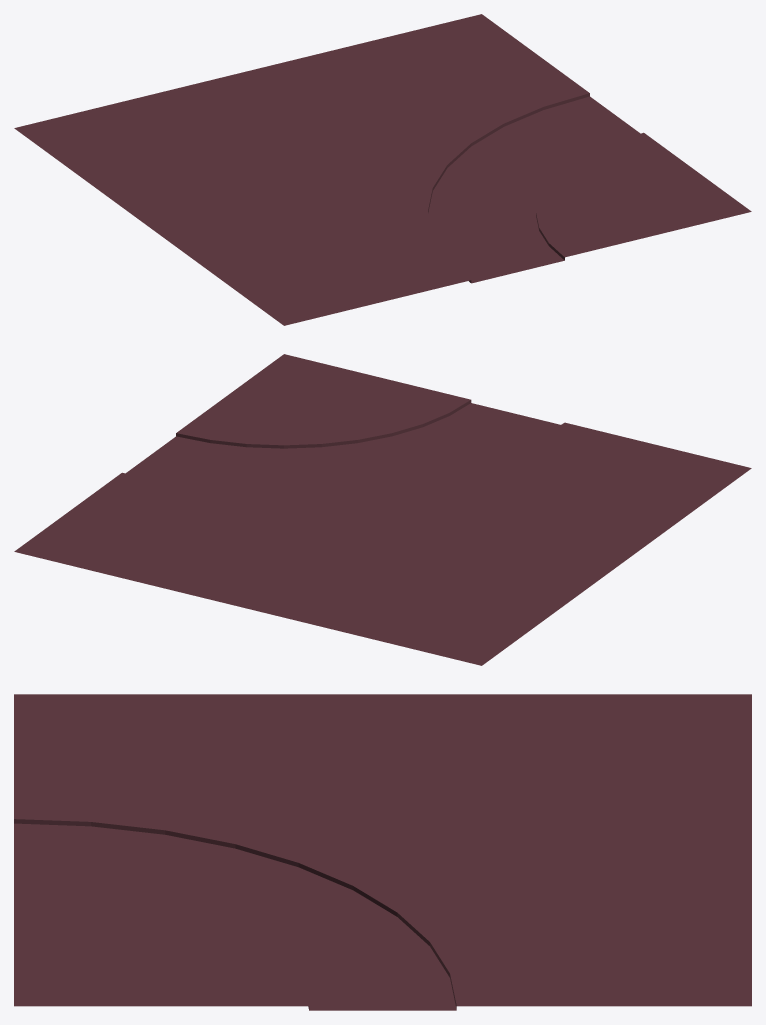
Rendered from tile-road-curve-nb.fbx.
3 renders of one model, top to bottom at view 1: azimuth 30°, elevation 25°; view 2: azimuth 150°, elevation 25°; view 3: azimuth 270°, elevation 25°, orthographic. The views are drawn at different scales.
Parts seen in each view (by area): view 1: tile-road-curve-nb; view 2: tile-road-curve-nb; view 3: tile-road-curve-nb.
Part boxes in pixels (x1=…): tile-road-curve-nb: x1=14, y1=14, x2=751, y2=325; tile-road-curve-nb: x1=14, y1=354, x2=751, y2=665; tile-road-curve-nb: x1=14, y1=694, x2=751, y2=1010.
Bounding box in the file's own units: 30 × 0.2 × 30.
